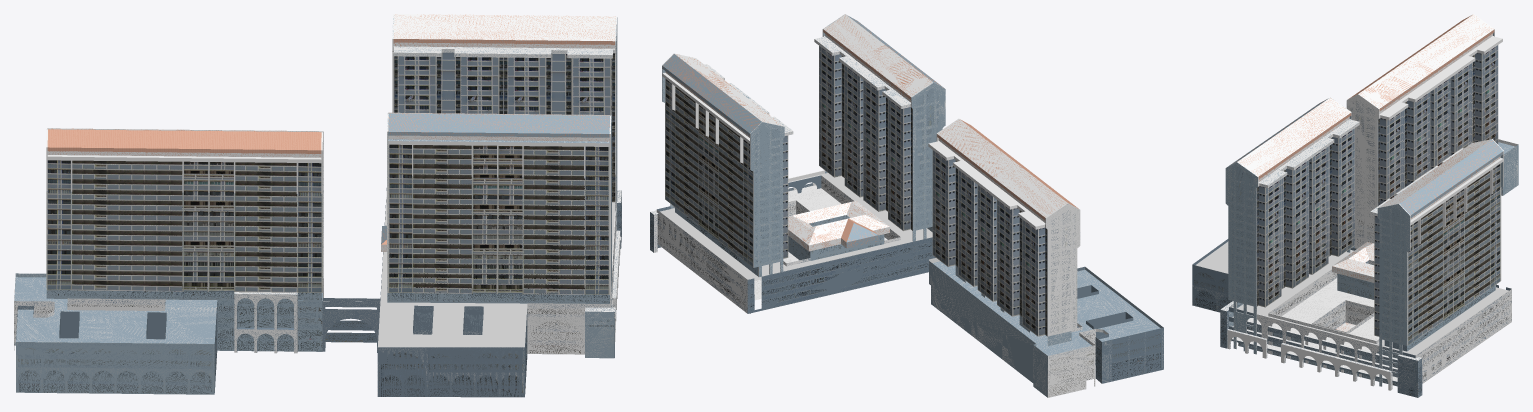
Rendered from bighdb.fbx.
3 renders of one model, left to right at view 1: azimuth 30°, elevation 25°; view 2: azimuth 150°, elevation 25°; view 3: azimuth 270°, elevation 25°, orthographic. The views are drawn at different scales.
Parts seen in each view (by area): view 1: Group1; view 2: Group1; view 3: Group1.
Boxes of the visible parts, x1=… form: Group1: x1=14, y1=14, x2=621, y2=397; Group1: x1=650, y1=14, x2=1163, y2=397; Group1: x1=1192, y1=14, x2=1518, y2=397.
Bounding box in the file's own units: 6873 × 2506 × 3937.
